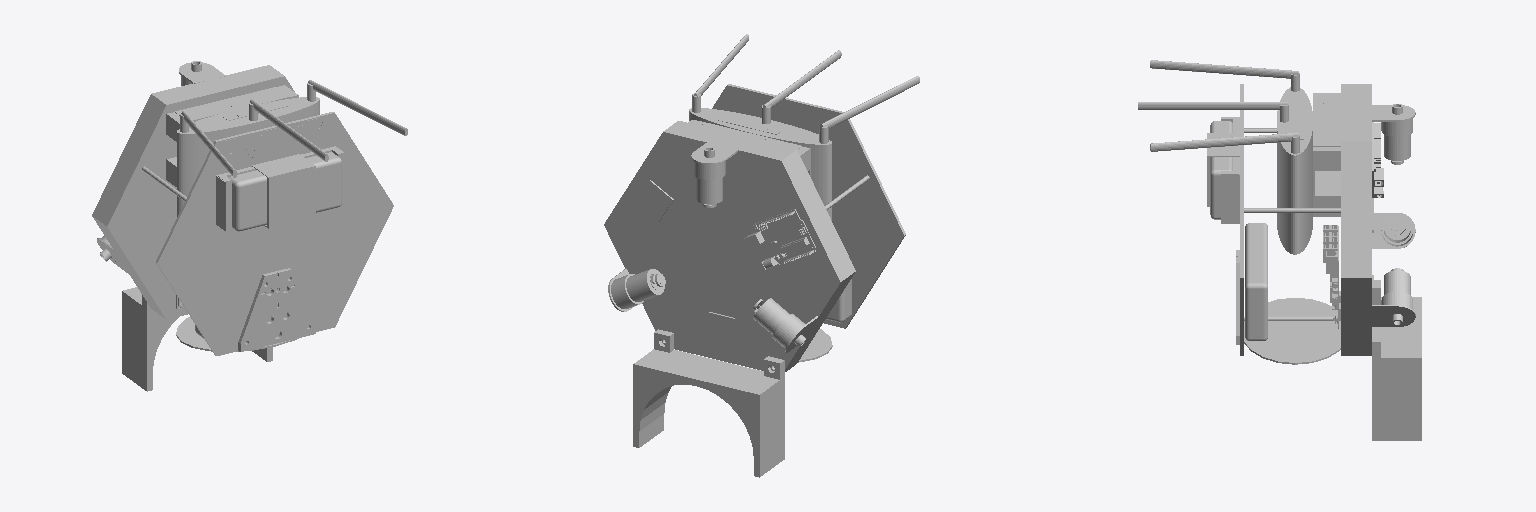
The model's file is virhas_body.obj.
The picture shows the model from 3 angles: view 1: azimuth 30°, elevation 25°; view 2: azimuth 150°, elevation 25°; view 3: azimuth 270°, elevation 25°; orthographic projection.
Parts seen in each view (by area): view 1: obj_0; view 2: obj_0; view 3: obj_0.
Part boxes in pixels (bbox=[...]): obj_0: bbox=[92, 61, 407, 391]; obj_0: bbox=[604, 34, 919, 477]; obj_0: bbox=[1138, 60, 1421, 440].
Bounding box in the file's own units: 300 × 373 × 312.